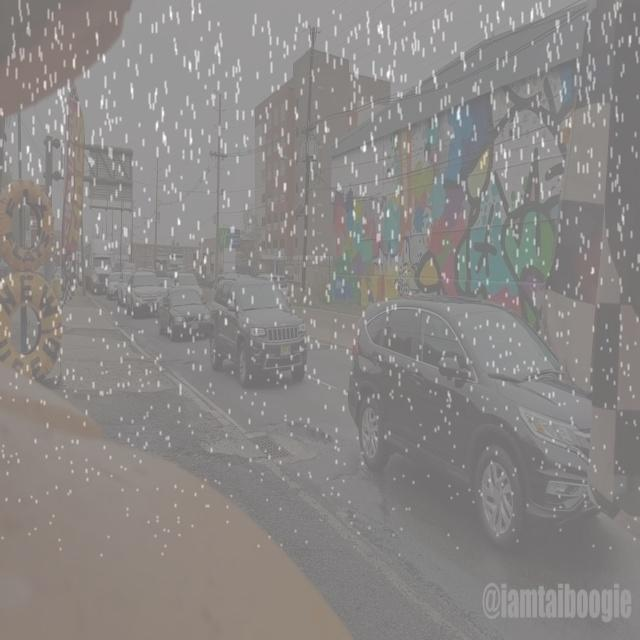Pothole: (226, 410, 344, 472)
